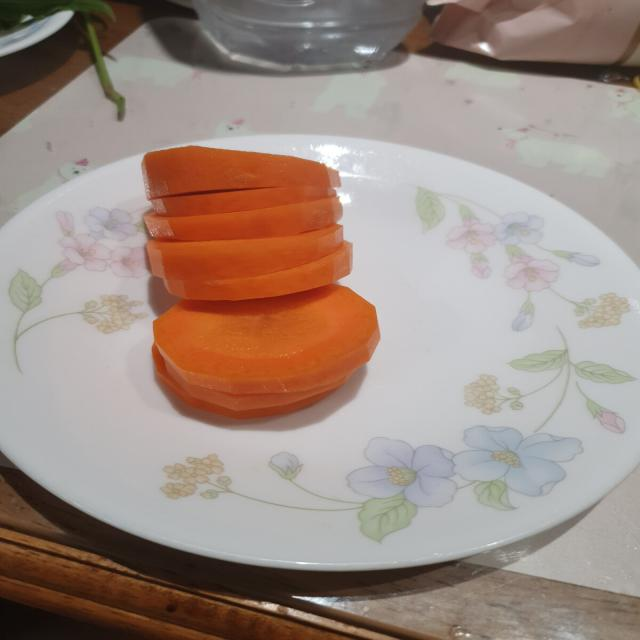carrot: (143, 147, 385, 423)
